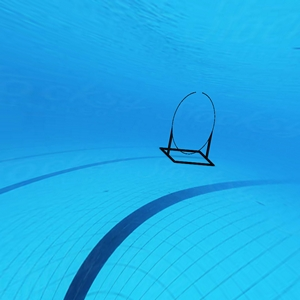circle: (157, 90, 222, 169)
